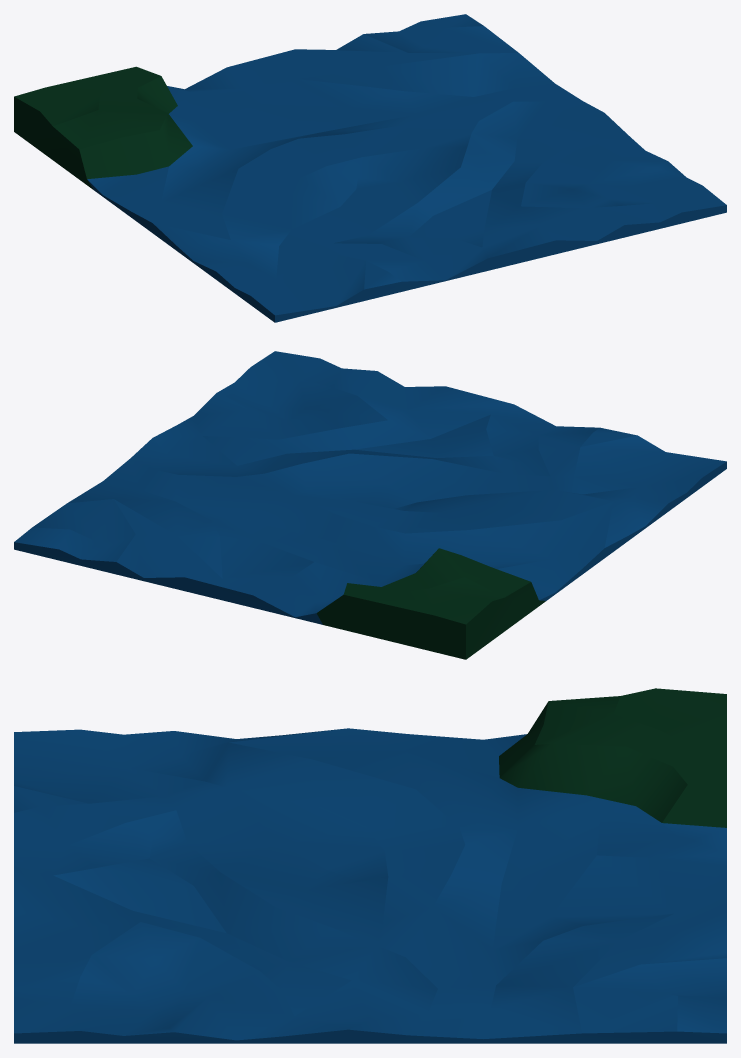
File: Water_Corner_External_LU.fbx
The picture shows the model from 3 angles, top to bottom: view 1: azimuth 30°, elevation 25°; view 2: azimuth 150°, elevation 25°; view 3: azimuth 270°, elevation 25°; orthographic projection. The views are drawn at different scales.
Visible parts, largest first — view 1: Water_Corner_External_LU; view 2: Water_Corner_External_LU; view 3: Water_Corner_External_LU.
Part boxes in pixels (bbox=[...]): Water_Corner_External_LU: bbox=[14, 14, 726, 322]; Water_Corner_External_LU: bbox=[14, 351, 726, 659]; Water_Corner_External_LU: bbox=[14, 688, 726, 1043].
Bounding box in the file's own units: 147 × 13.39 × 147.
